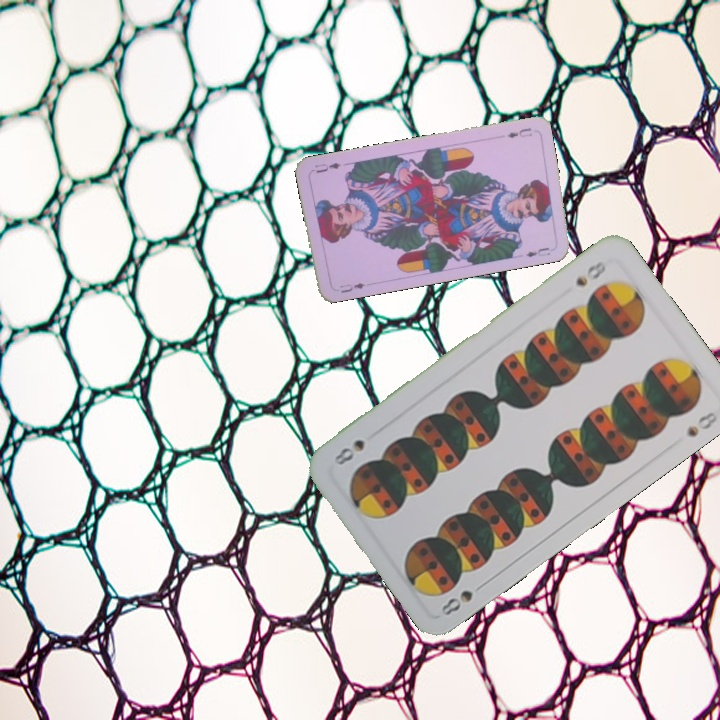EU: (336, 279, 367, 296), (503, 124, 535, 140)
S8: (436, 578, 489, 619), (571, 256, 609, 289)
